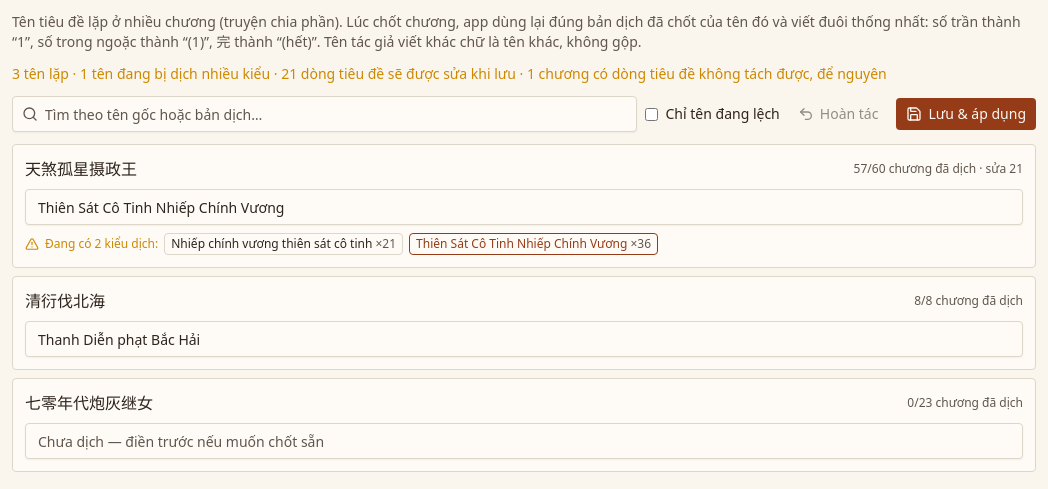
Scenario: TitlesPanel › chọn một kiểu dịch, điền trước tên chưa dịch rồi Lưu & áp dụng: chỉ gửi dòng đã đổi
This screenshot has width=1048, height=489.
Click the button "Nhiếp chính vương thiên sát cô tinh ×21". click: (284, 244)
box: x1=164 y1=233 x2=403 y2=255
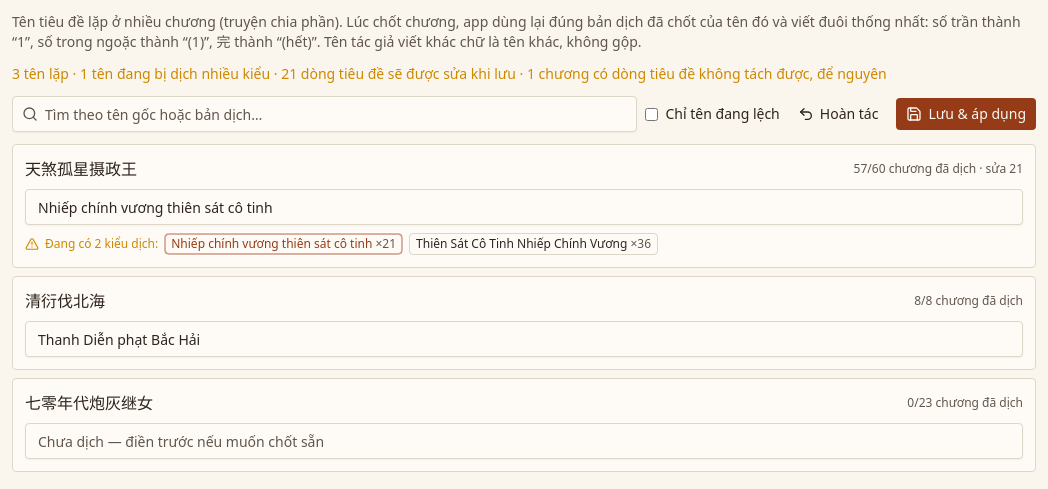
Expected: the field named "Bản dịch của 天煞孤星摄政王" holds "Nhiếp chính vương thiên sát cô tinh", x1=25 y1=189 x2=1023 y2=225
Type "Kế nữ pháo hôi thập niên 70 " into the field named "Bản dịch của 七零年代炮灰继女". click: (524, 441)
box: x1=25 y1=423 x2=1023 y2=459
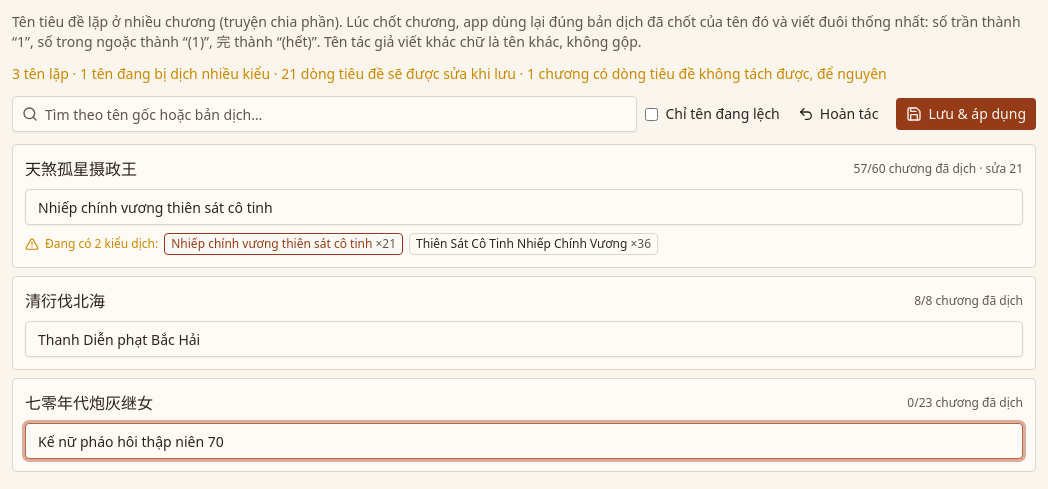
# Gõ rồi xoá hết một ô đã có bản dịch: không gửi chuỗi rỗng lên.
Clear the field named "Bản dịch của 清衍伐北海". click: (524, 339)
box: x1=25 y1=321 x2=1023 y2=357
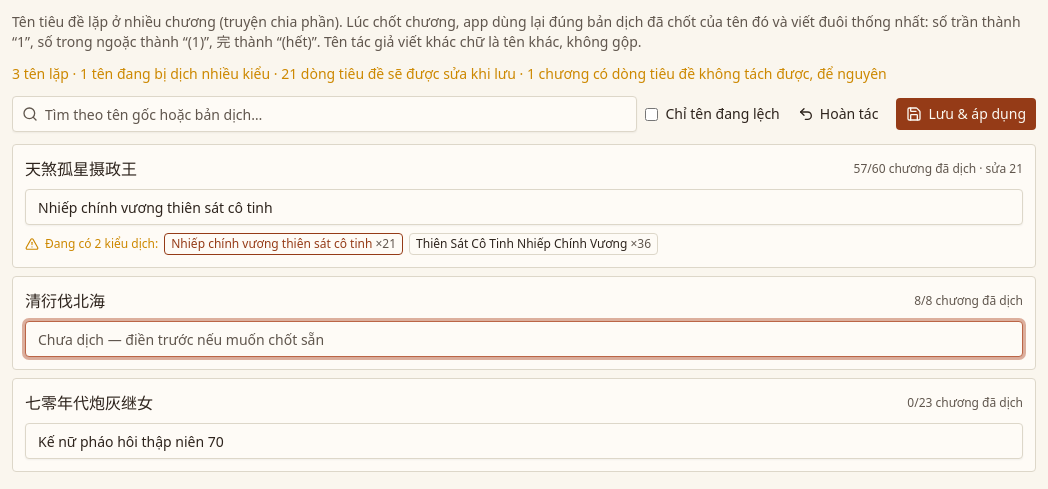
Click the button "Lưu & áp dụng". click: (966, 114)
box: x1=896 y1=98 x2=1036 y2=130
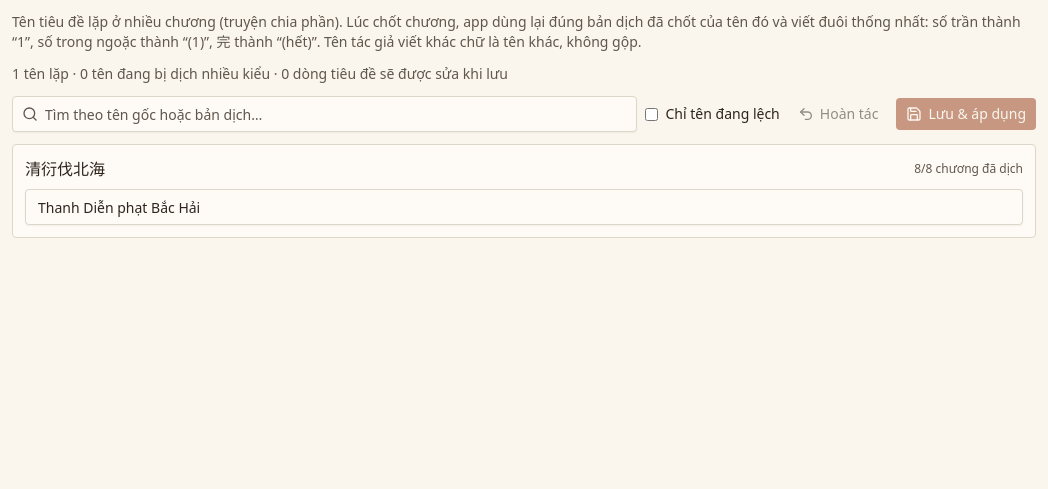
Expected: the text "天煞孤星摄政王" is gone
Expected: the field named "Bản dịch của 清衍伐北海" holds "Thanh Diễn phạt Bắc Hải", x1=25 y1=189 x2=1023 y2=225
